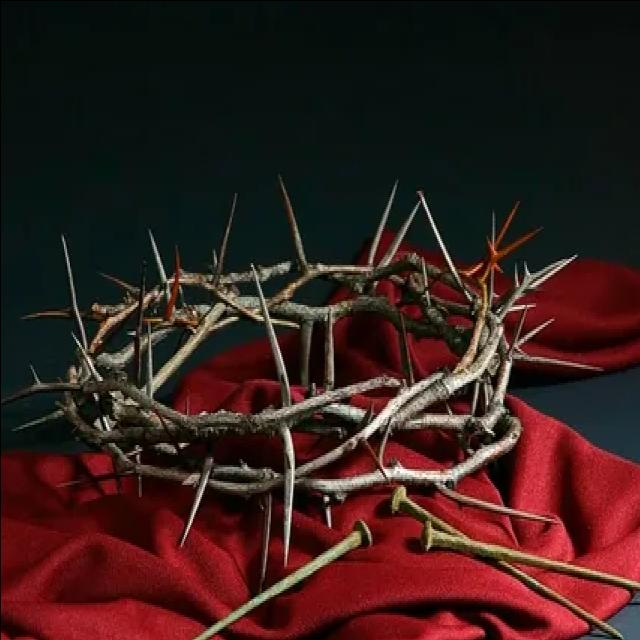crown: (44, 195, 536, 512)
